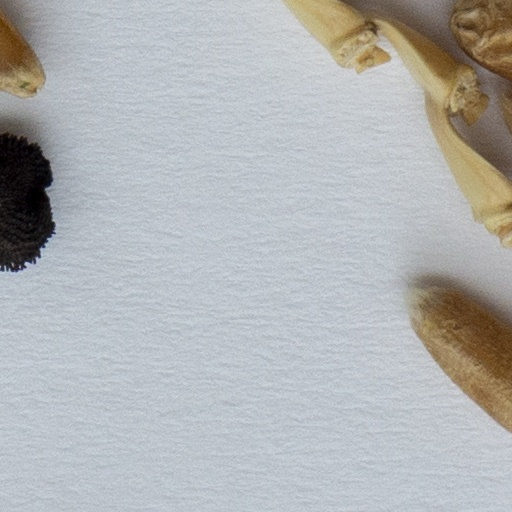Peel-poly: (282, 0, 511, 246)
